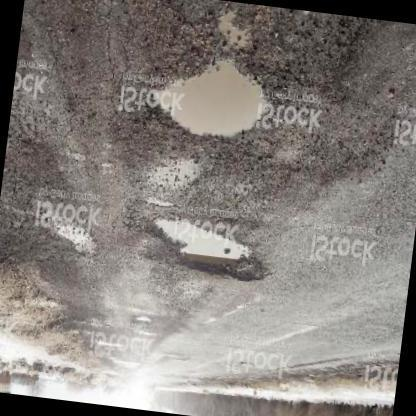pothole: (150, 56, 271, 141), (144, 215, 264, 283), (214, 7, 259, 58), (59, 221, 98, 262)
